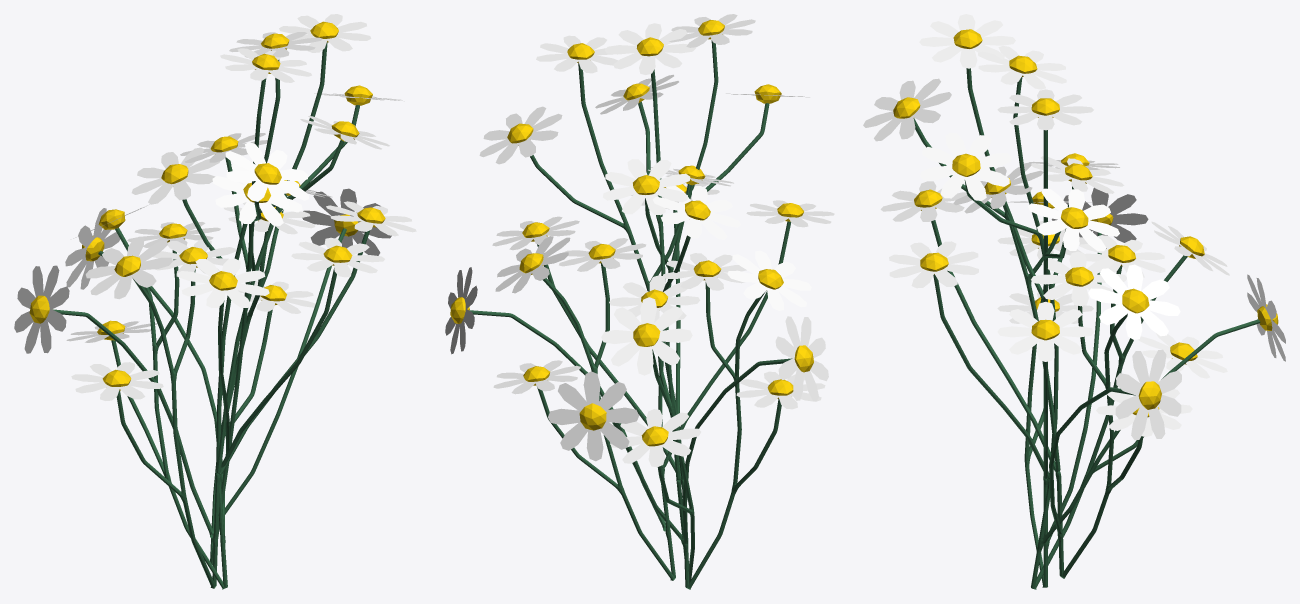
The model's file is mod_vg_camomille.fbx.
3 renders of one model, left to right at view 1: azimuth 30°, elevation 25°; view 2: azimuth 150°, elevation 25°; view 3: azimuth 270°, elevation 25°, orthographic. The views are drawn at different scales.
Parts seen in each view (by area): view 1: tige1, fleur23, fleur2, fleur3, fleur21, fleur14, fleur18, fleur1, fleur13, fleur6, fleur8, fleur10 (+11 smaller); view 2: tige1, fleur10, fleur11, fleur22, fleur9, fleur2, fleur3, fleur16, fleur14, fleur7, fleur19, fleur8 (+11 smaller); view 3: tige1, fleur19, fleur15, fleur18, fleur7, fleur5, fleur23, fleur24, fleur13, fleur20, fleur8, fleur16 (+11 smaller).
Part boxes in pixels (x1,y1,x2,y2): tige1: (52, 42, 370, 589); fleur23: (225, 142, 308, 209); fleur2: (14, 265, 69, 353); fleur3: (85, 236, 172, 299); fleur21: (177, 258, 269, 307); fleur14: (131, 147, 219, 204); fleur18: (302, 188, 391, 255); fleur1: (71, 362, 163, 400); fleur13: (291, 237, 384, 277); fleur6: (212, 163, 302, 225); fleur8: (279, 14, 371, 52); fleur10: (65, 208, 121, 289); tige1: (469, 40, 792, 589); fleur10: (548, 371, 639, 461); fleur11: (601, 297, 692, 375); fleur22: (603, 159, 690, 215); fleur9: (610, 409, 700, 467); fleur2: (775, 316, 828, 401); fleur3: (727, 250, 811, 310); fleur16: (605, 23, 695, 74); fleur14: (652, 185, 740, 239); fleur7: (479, 106, 562, 164); fleur19: (495, 236, 570, 293); fleur8: (536, 35, 618, 73); tige1: (913, 68, 1260, 589); fleur19: (1088, 264, 1180, 339); fleur15: (920, 132, 1011, 200); fleur18: (1115, 349, 1181, 440); fleur7: (1028, 188, 1119, 251); fleur5: (997, 301, 1093, 361); fleur23: (863, 78, 951, 141); fleur24: (919, 14, 1015, 68); fleur13: (889, 241, 978, 288); fleur20: (1031, 251, 1126, 306); fleur8: (997, 89, 1093, 130); fleur16: (978, 46, 1066, 89).
Size of the model in its own units: 76.14 by 108 by 73.6.
